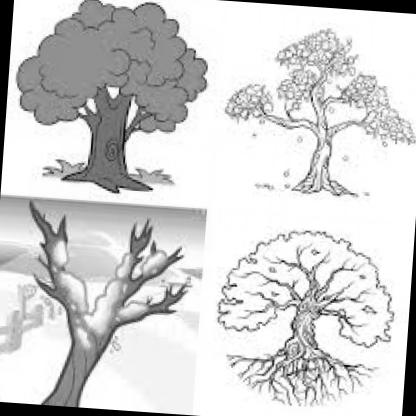branch_cut: (69, 80, 150, 131)
crown_cloud: (11, 0, 215, 139)
knot: (102, 138, 121, 162)
root_only: (62, 165, 154, 200)
trunk_straight: (81, 127, 132, 167)
